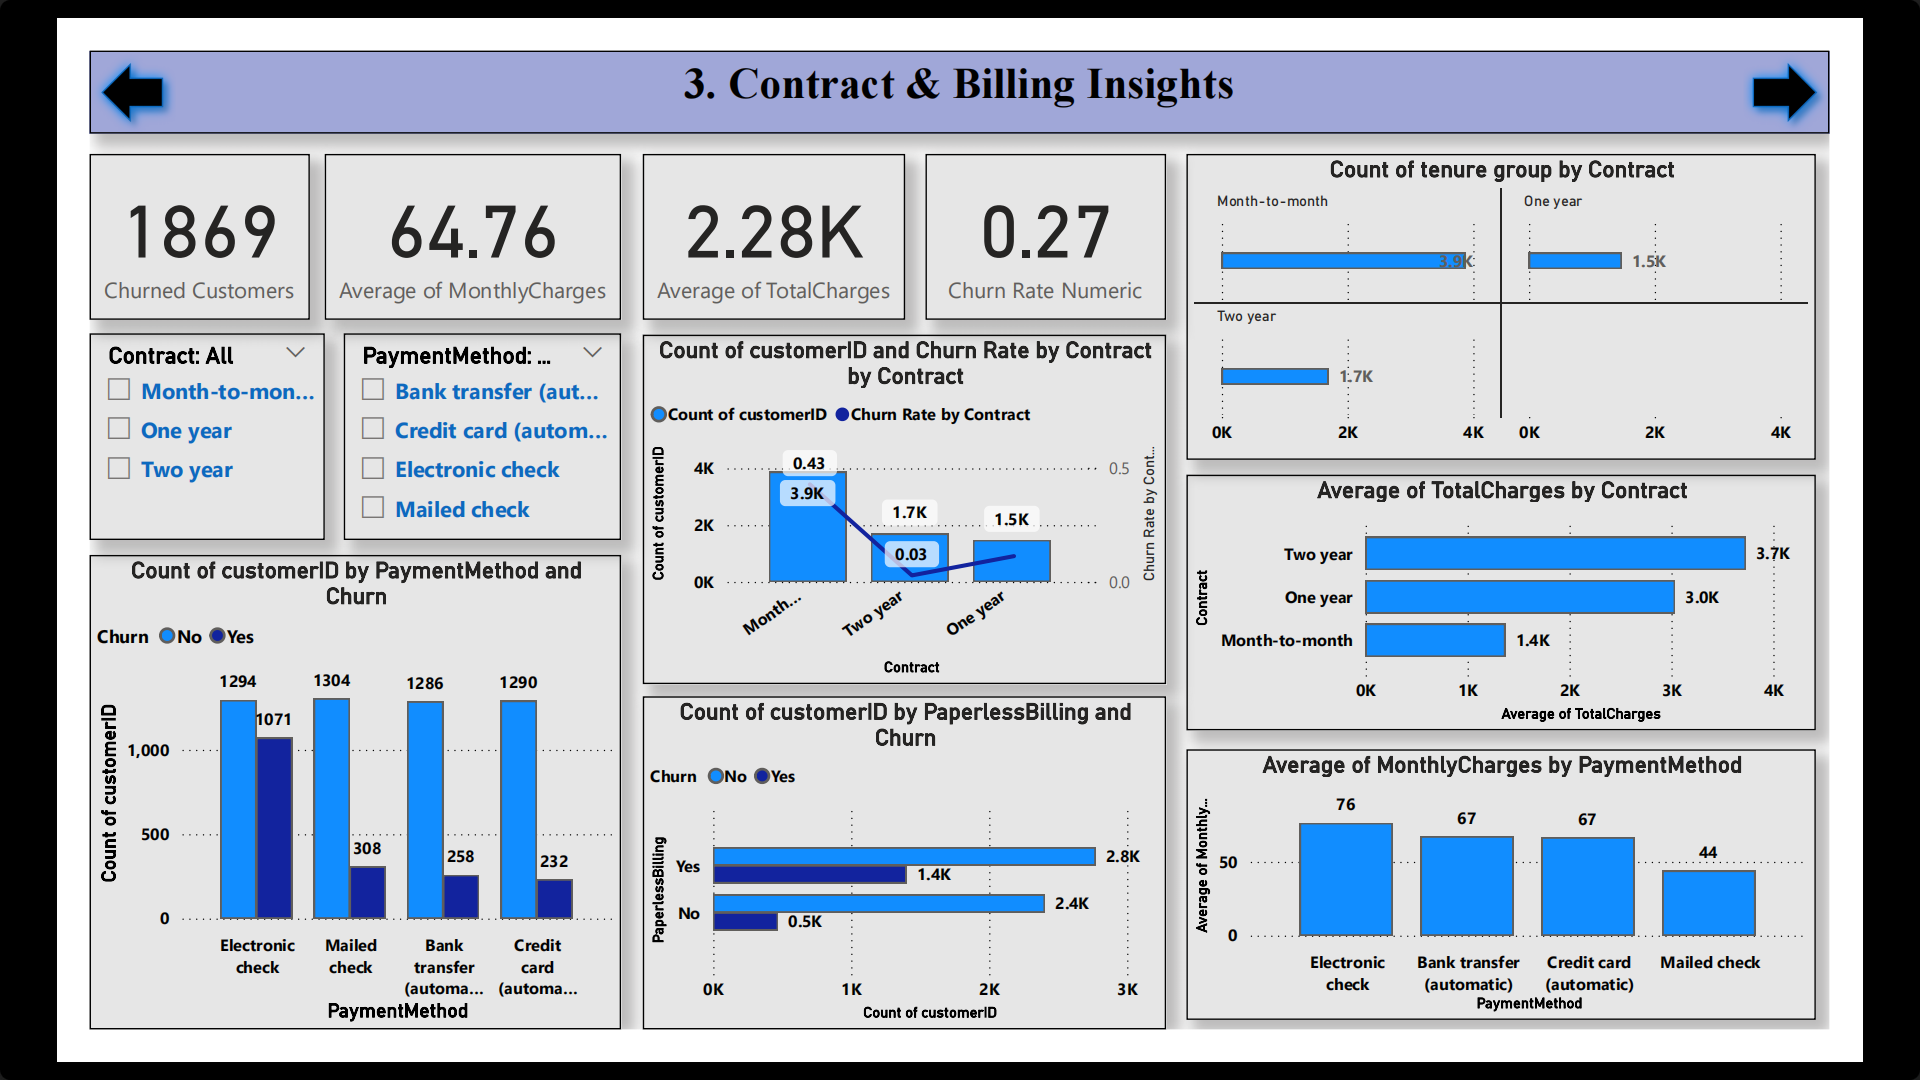

The dashboard page shown, as its layout file describes it:
{"tool":"powerbi","page":{"name":"Page 3","canvas":[1280,720],"ordinal":2},"visuals":[{"type":"textbox","box":[0,0,1280,61],"z":0},{"type":"clusteredBarChart","fields":{"Category":["Data set.Contract"],"Y":["Avg(Data set.TotalCharges)"]},"box":[807.3,312.2,462.8,187.8],"z":1000},{"type":"clusteredColumnChart","fields":{"Category":["Data set.PaymentMethod"],"Y":["CountNonNull(Data set.customerID)"],"Series":["Data set.Churn"]},"box":[0,370.7,390.6,349.6],"z":2000},{"type":"lineClusteredColumnComboChart","fields":{"Category":["Data set.Contract"],"Y":["CountNonNull(Data set.customerID)"],"Y2":["Data set.Churn Rate by Contract"]},"box":[406.8,209,385.6,257.5],"z":3000},{"type":"clusteredBarChart","fields":{"Category":["Data set.PaperlessBilling"],"Y":["CountNonNull(Data set.customerID)"],"Series":["Data set.Churn"]},"box":[406.8,475.2,385.6,245.1],"z":4000},{"type":"clusteredColumnChart","fields":{"Category":["Data set.PaymentMethod"],"Y":["Avg(Data set.MonthlyCharges)"]},"box":[807.3,513.8,462.8,199],"z":5000},{"type":"clusteredBarChart","fields":{"Y":["CountNonNull(Data set.tenure group)"],"Rows":["Data set.Contract"]},"box":[807.3,75.9,462.8,225.2],"z":6000},{"type":"slicer","fields":{"Values":["Data set.Contract"]},"box":[0,207.7,172.9,151.8],"z":7000},{"type":"slicer","fields":{"Values":["Data set.PaymentMethod"]},"box":[186.6,207.7,204,151.8],"z":8000},{"type":"card","fields":{"Values":["Data set.Churned Customers"]},"box":[0,75.9,161.7,121.9],"z":9000},{"type":"card","fields":{"Values":["Avg(Data set.MonthlyCharges)"]},"box":[172.9,75.9,217.7,121.9],"z":10000},{"type":"card","fields":{"Values":["Avg(Data set.TotalCharges)"]},"box":[406.8,75.9,192.8,121.9],"z":11000},{"type":"card","fields":{"Values":["Data set.Churn Rate Numeric"]},"box":[614.5,75.9,177.9,121.9],"z":12000},{"type":"shape","box":[1215.3,0,64.7,61],"z":13000},{"type":"shape","box":[0,0,63.4,61],"z":14000}]}

Visuals, with their boxes in screenshot pixels (x1, y1, x2, y2), scaled from the page's 1280x720 canvas onto the 1920x1080 screenshot:
textbox: box=[0, 0, 1919, 92]
clusteredBarChart - Data set.Contract x Avg(Data set.TotalCharges): box=[1211, 468, 1905, 750]
clusteredColumnChart - Data set.PaymentMethod x CountNonNull(Data set.customerID): box=[0, 556, 586, 1079]
lineClusteredColumnComboChart - Data set.Contract x CountNonNull(Data set.customerID): box=[610, 314, 1189, 700]
clusteredBarChart - Data set.PaperlessBilling x CountNonNull(Data set.customerID): box=[610, 713, 1189, 1079]
clusteredColumnChart - Data set.PaymentMethod x Avg(Data set.MonthlyCharges): box=[1211, 771, 1905, 1069]
clusteredBarChart - CountNonNull(Data set.tenure group) x Data set.Contract: box=[1211, 114, 1905, 452]
slicer - Data set.Contract: box=[0, 312, 259, 539]
slicer - Data set.PaymentMethod: box=[280, 312, 586, 539]
card - Data set.Churned Customers: box=[0, 114, 243, 297]
card - Avg(Data set.MonthlyCharges): box=[259, 114, 586, 297]
card - Avg(Data set.TotalCharges): box=[610, 114, 899, 297]
card - Data set.Churn Rate Numeric: box=[922, 114, 1189, 297]
shape: box=[1823, 0, 1919, 92]
shape: box=[0, 0, 95, 92]
